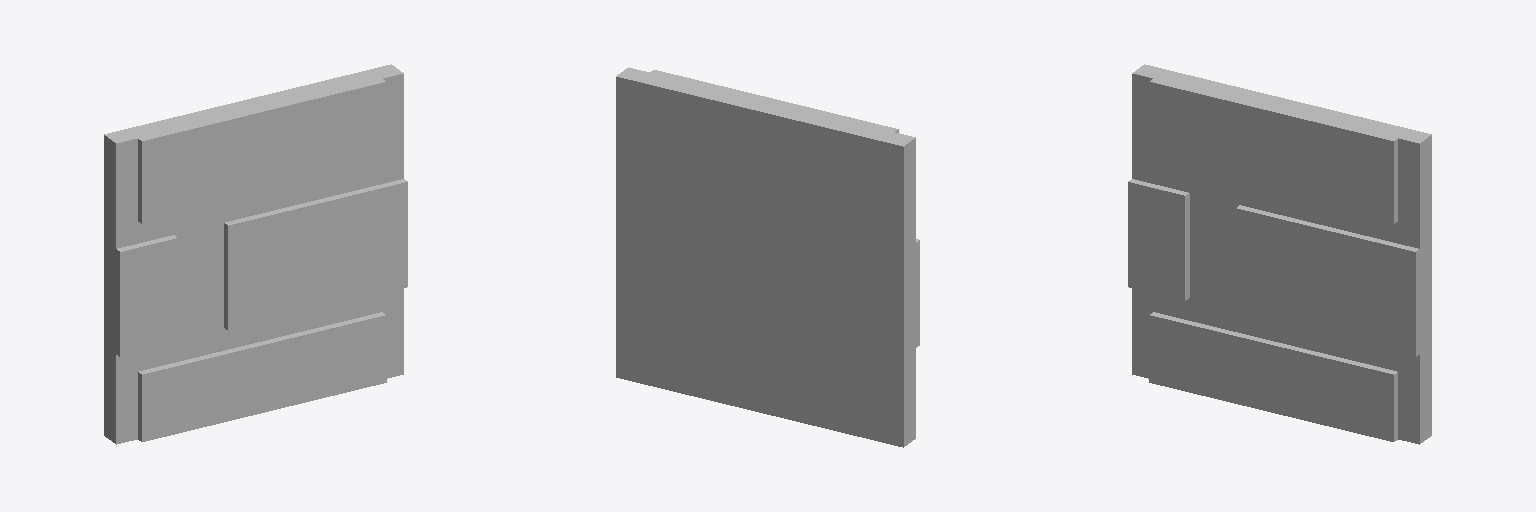
File: wall tile 01.obj
3 renders of one model, left to right at view 1: azimuth 30°, elevation 25°; view 2: azimuth 150°, elevation 25°; view 3: azimuth 330°, elevation 25°, orthographic.
Size of the model in its own units: 40 by 40 by 4.